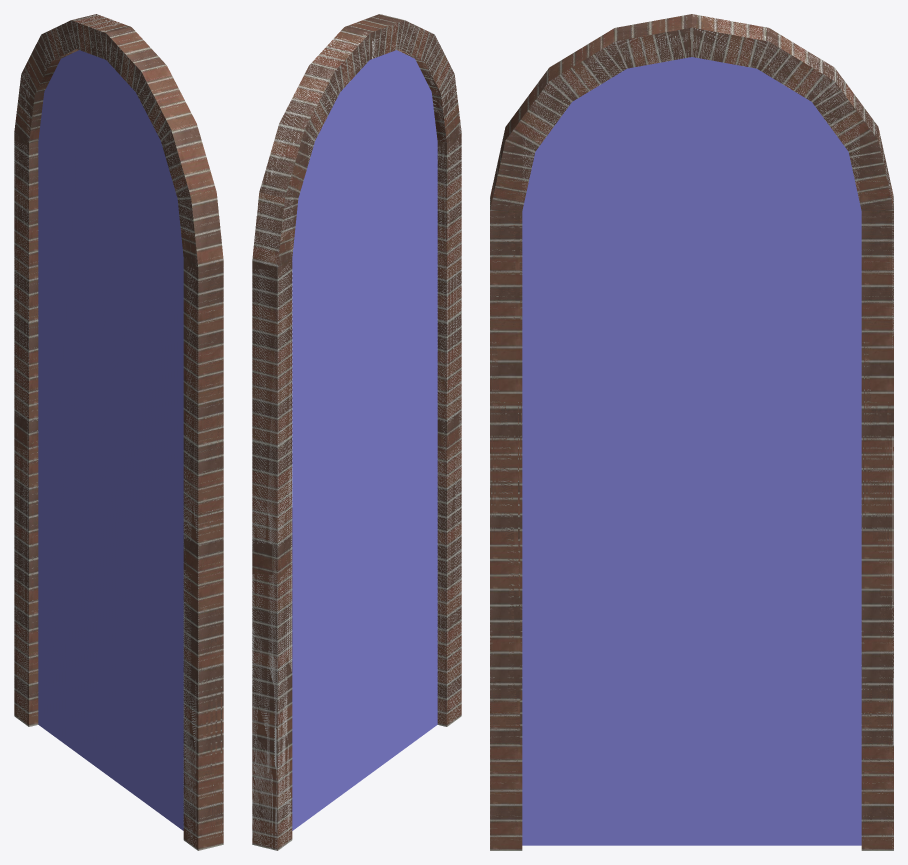
The model's file is portal.dae.
The picture shows the model from 3 angles, left to right: view 1: azimuth 30°, elevation 25°; view 2: azimuth 150°, elevation 25°; view 3: azimuth 270°, elevation 25°; orthographic projection. The views are drawn at different scales.
Visible parts, largest first — view 1: group_0, group_1; view 2: group_0, group_1; view 3: group_0, group_1.
Boxes of the visible parts, x1,y1,x2,y2 form: group_0: (38, 50, 183, 830); group_1: (14, 14, 223, 850); group_0: (292, 50, 437, 830); group_1: (252, 14, 461, 850); group_0: (522, 57, 861, 845); group_1: (490, 14, 893, 850).
Size of the model in its own units: 3.15 by 39.37 by 88.58.
3 materials, 2 textured.
